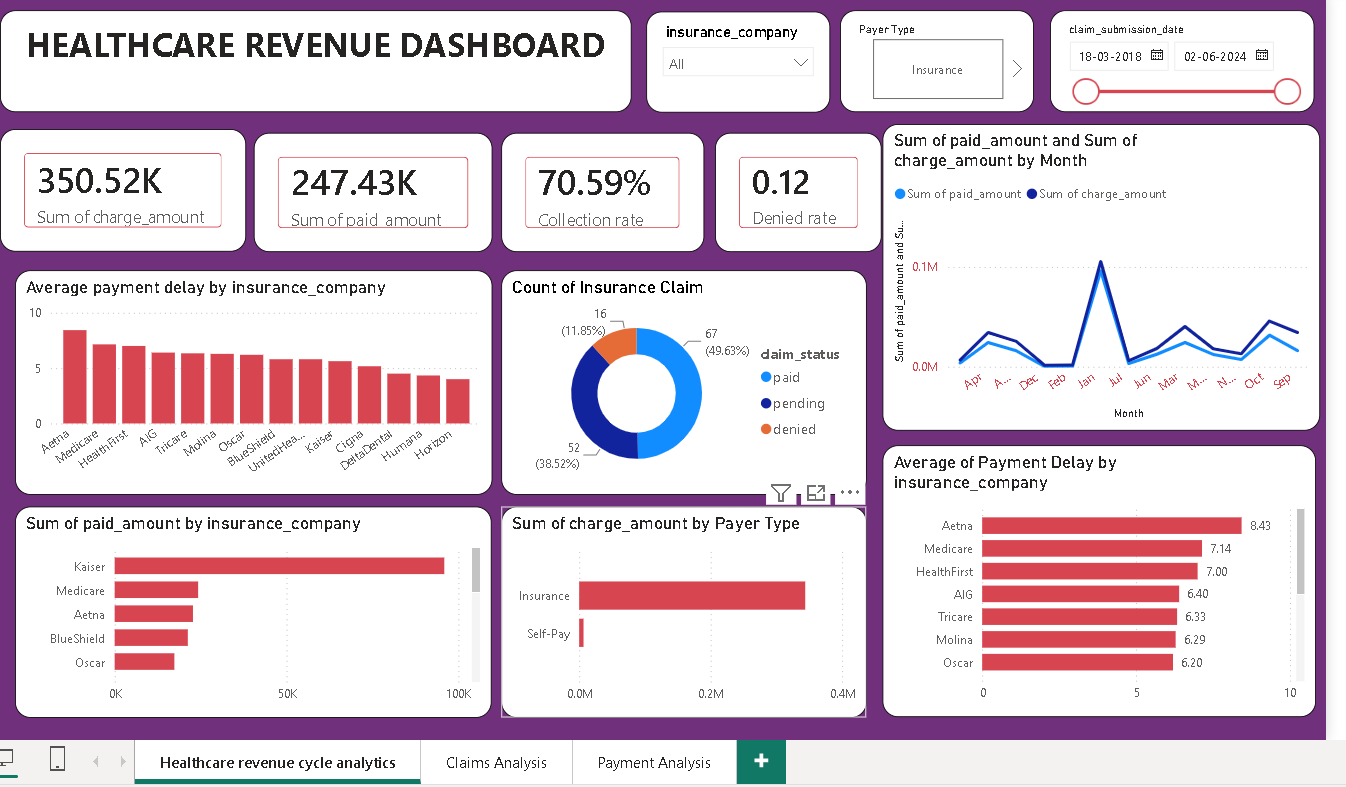

Layout of this report page (visuals, bound fields, positions):
{"tool":"powerbi","page":{"name":"Healthcare revenue cycle analytics","canvas":[1280,720],"ordinal":0},"visuals":[{"type":"cardVisual","fields":{"Data":["Sum(Data.charge_amount)"]},"box":[11,0,290.9,145.5],"z":0},{"type":"cardVisual","fields":{"Data":["Sum(Data.paid_amount)"]},"box":[290.9,0,289.5,145.5],"z":1000},{"type":"cardVisual","fields":{"Data":["Data.Average payment delay"]},"box":[580.4,0,296.4,145.5],"z":2000},{"type":"cardVisual","fields":{"Data":["Data.Collection rate"]},"box":[876.8,0,308.7,145.5],"z":3000},{"type":"donutChart","fields":{"Category":["Data.claim_status"],"Y":["CountNonNull(Data.insurance_claim_id)"]},"box":[482.9,152.9,431.4,301.4],"z":4000},{"type":"lineChart","fields":{"Y":["Sum(Data.paid_amount)","Sum(Data.charge_amount)"],"Category":["Data.claim_submission_date Hierarchy.Month","Data.claim_submission_date Hierarchy.YEAR"]},"box":[0,152.9,478.6,301.4],"z":5000},{"type":"barChart","fields":{"Category":["Data.Payer Type"],"Y":["Sum(Data.charge_amount)"]},"box":[478.6,454.3,440,265.7],"z":6000},{"type":"barChart","fields":{"Category":["Data.insurance_company"],"Y":["Avg(Data.Payment Delay)"]},"box":[0,454.3,478.6,265.7],"z":7000},{"type":"slicer","fields":{"Values":["Data.insurance_company"]},"box":[918.6,145.7,361.4,130],"z":8000},{"type":"slicer","fields":{"Values":["Data.claim_status"]},"box":[918.6,285.7,361.4,150],"z":9000},{"type":"slicer","fields":{"Values":["Data.Payer Type"]},"box":[914.3,435.7,365.7,124.3],"z":10000},{"type":"slicer","fields":{"Values":["Data.claim_submission_date"]},"box":[919,560,361,160],"z":11000}]}

Visuals, with their boxes on the page's 1280x720 design canvas (x1, y1, x2, y2). These are canvas units, not pixel positions in the 1346x787 screenshot, which may show the page scaled, cropped or inside an application window:
cardVisual - Sum(Data.charge_amount): crop(11, 0, 302, 146)
cardVisual - Sum(Data.paid_amount): crop(291, 0, 580, 146)
cardVisual - Data.Average payment delay: crop(580, 0, 877, 146)
cardVisual - Data.Collection rate: crop(877, 0, 1186, 146)
donutChart - Data.claim_status x CountNonNull(Data.insurance_claim_id): crop(483, 153, 914, 454)
lineChart - Sum(Data.paid_amount) x Sum(Data.charge_amount): crop(0, 153, 479, 454)
barChart - Data.Payer Type x Sum(Data.charge_amount): crop(479, 454, 919, 720)
barChart - Data.insurance_company x Avg(Data.Payment Delay): crop(0, 454, 479, 720)
slicer - Data.insurance_company: crop(919, 146, 1280, 276)
slicer - Data.claim_status: crop(919, 286, 1280, 436)
slicer - Data.Payer Type: crop(914, 436, 1280, 560)
slicer - Data.claim_submission_date: crop(919, 560, 1280, 720)
